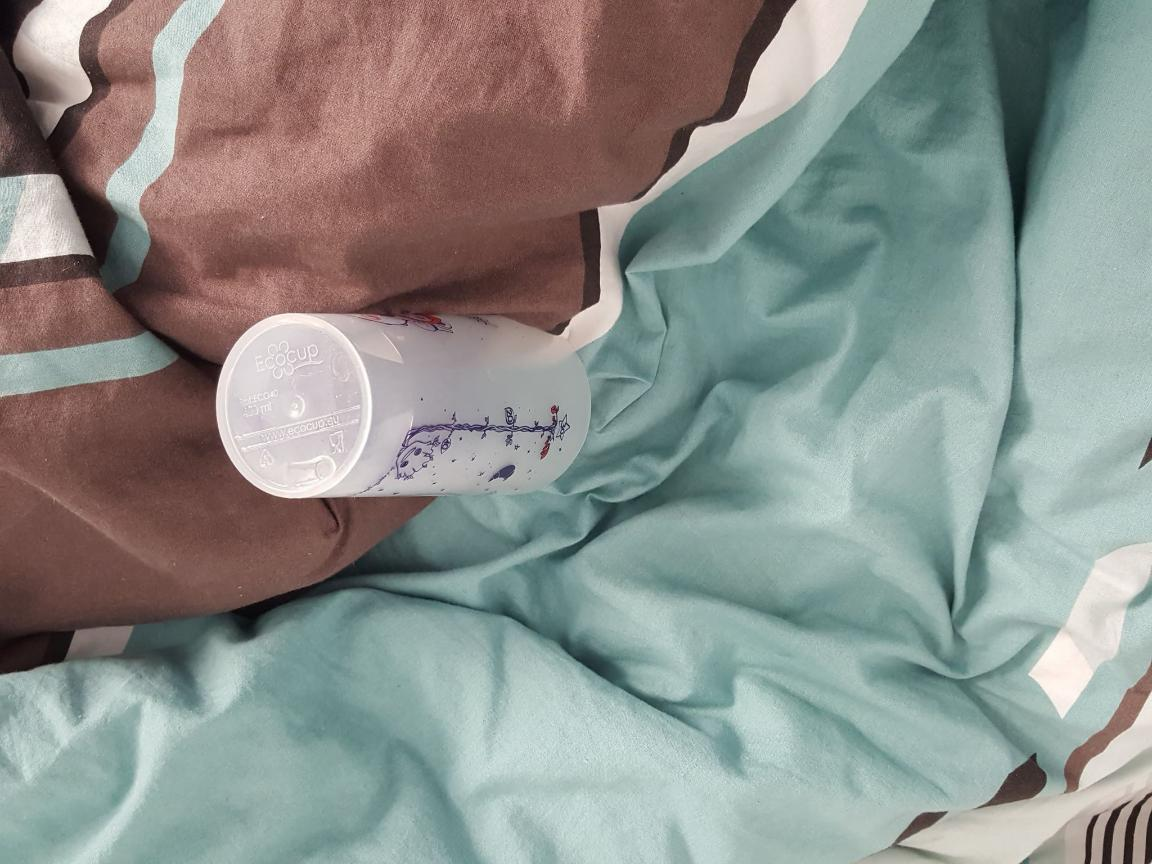ecocup: (211, 309, 594, 502)
